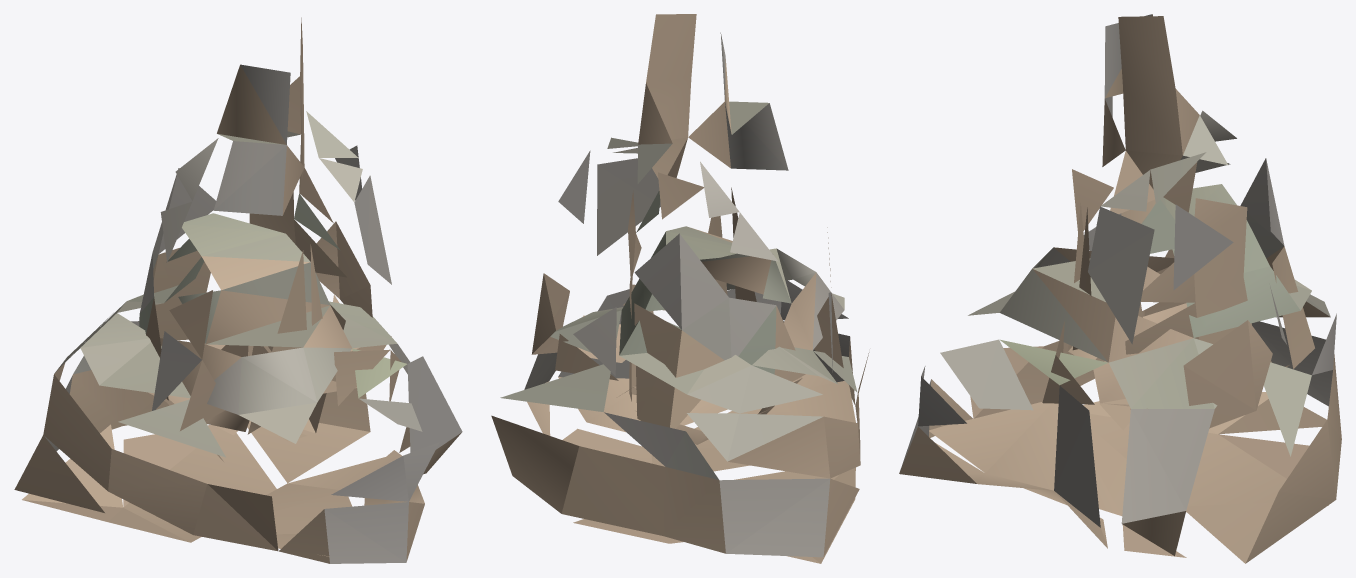
Rendered from mesa_1.lod.glb.
3 views of the same model, side by side, from view 1: azimuth 30°, elevation 25°; view 2: azimuth 150°, elevation 25°; view 3: azimuth 270°, elevation 25° (orthographic). The views are drawn at different scales.
Parts seen in each view (by area): view 1: mesa_1; view 2: mesa_1; view 3: mesa_1.
Boxes of the visible parts, <box> form: mesa_1: <box>14,17,462,563</box>; mesa_1: <box>491,14,869,563</box>; mesa_1: <box>899,14,1341,563</box>.
Bounding box in the file's own units: 21.33 × 27.26 × 21.77.
